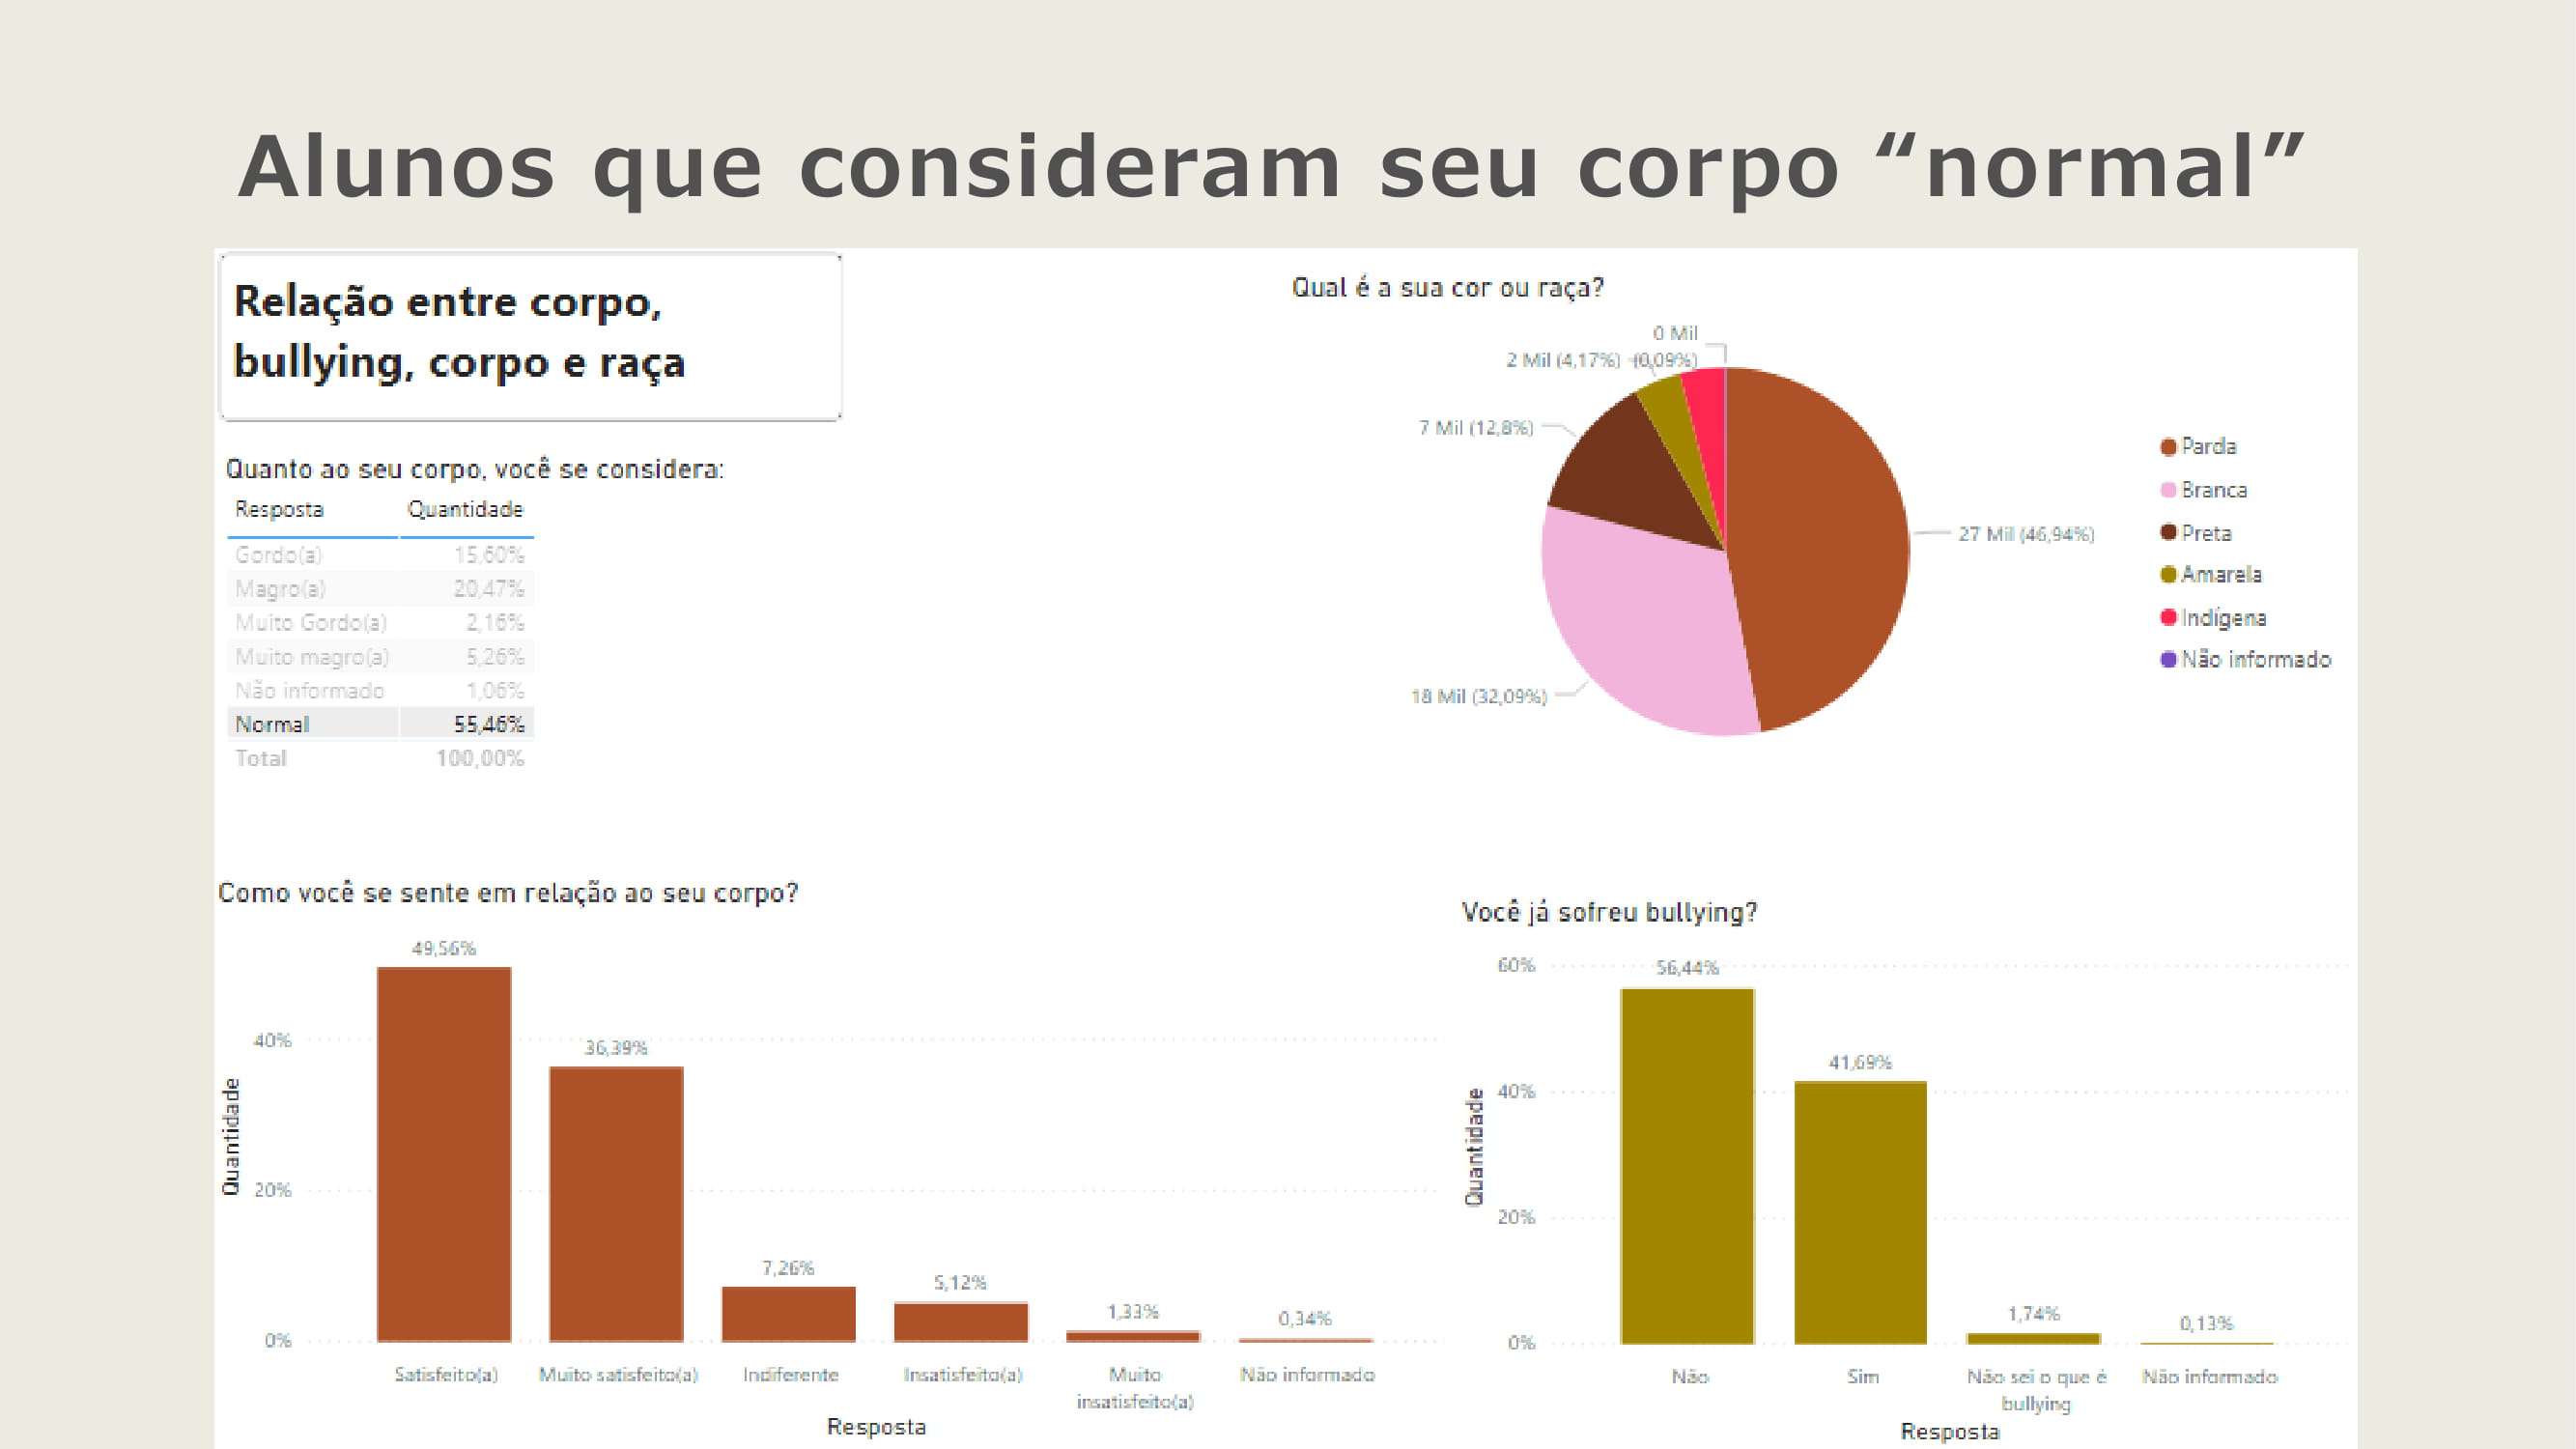

The page's visual inventory and layout, read from the dashboard file:
{"tool":"powerbi","page":{"name":"Corpo e bullying","canvas":[1280,720],"ordinal":2},"visuals":[{"type":"clusteredColumnChart","title":"Você já sofreu bullying?","fields":{"Category":["P_Você já sofreu bullying?.Resposta"],"Y":["Sum(Respotas_Questionario.cont)"]},"box":[741.1,387.9,538.9,332.1],"z":0},{"type":"clusteredColumnChart","title":"Como você se sente em relação ao seu corpo?","fields":{"Category":["P_Como se sente em relação ao seu corpo?.Resposta"],"Y":["Sum(Respotas_Questionario.cont)"]},"box":[0,377.3,742.3,342.1],"z":1000},{"type":"tableEx","title":"Quanto ao seu corpo, você se considera:","fields":{"Values":["P_Quanto ao seu corpo, você se considera:.Resposta","Sum(Respotas_Questionario.cont)"]},"box":[4.6,123.7,319.2,209.3],"z":2000},{"type":"textbox","box":[5.8,5.8,372.3,99.6],"z":3000},{"type":"pieChart","title":"Qual é a sua cor ou raça?","fields":{"Y":["Sum(Respotas_Questionario.cont)"],"Category":["P_Qual é a sua cor ou raça?.Resposta"]},"box":[640.6,15.9,639.2,317.4],"z":4000}]}

Visuals, with their boxes in screenshot pixels (x1, y1, x2, y2), scaled from the page's 1280x720 canvas onto the 2576x1449 screenshot:
"Você já sofreu bullying?" clusteredColumnChart: locate(1491, 781, 2575, 1448)
"Como você se sente em relação ao seu corpo?" clusteredColumnChart: locate(0, 759, 1494, 1448)
"Quanto ao seu corpo, você se considera:" tableEx: locate(10, 249, 652, 670)
textbox: locate(12, 12, 761, 213)
"Qual é a sua cor ou raça?" pieChart: locate(1289, 32, 2575, 670)
